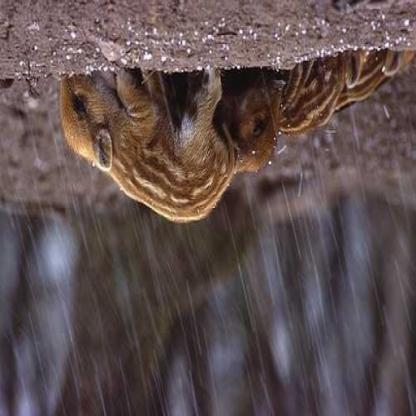boar: (48, 26, 242, 222)
